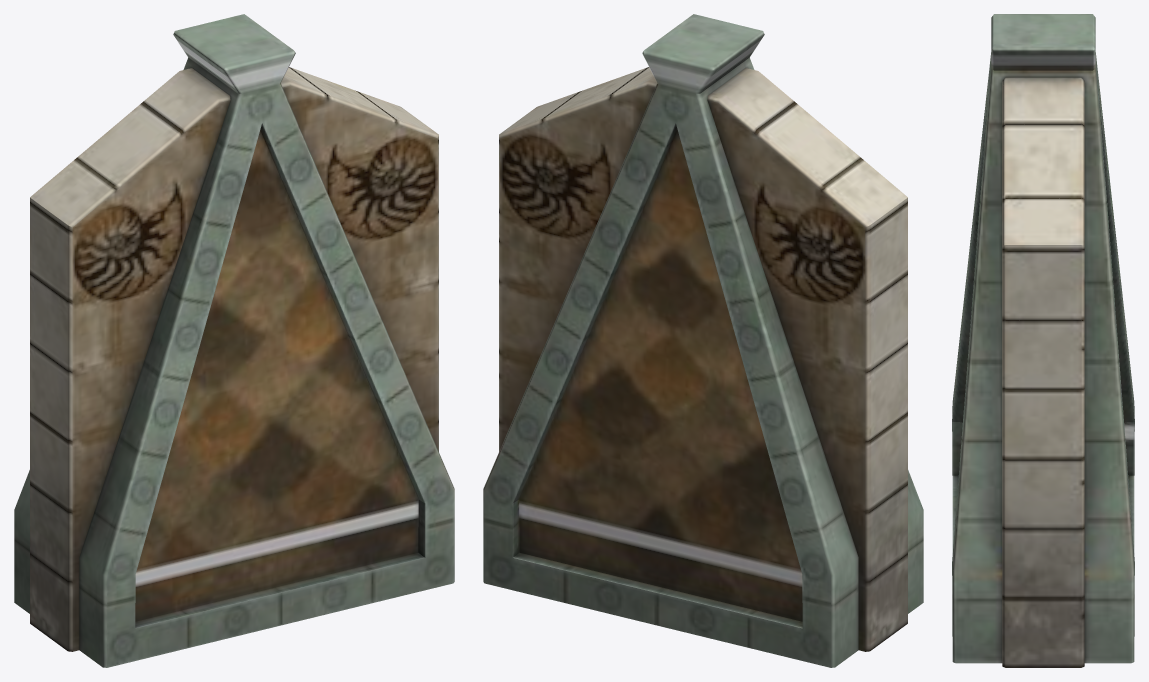
File: 69-orichalcumwall-wall_orichalcum_short.glb
The picture shows the model from 3 angles, left to right: view 1: azimuth 30°, elevation 25°; view 2: azimuth 150°, elevation 25°; view 3: azimuth 270°, elevation 25°; orthographic projection.
Bounding box in the file's own units: 4.19 × 5.95 × 1.8.
1 material, 1 textured.
